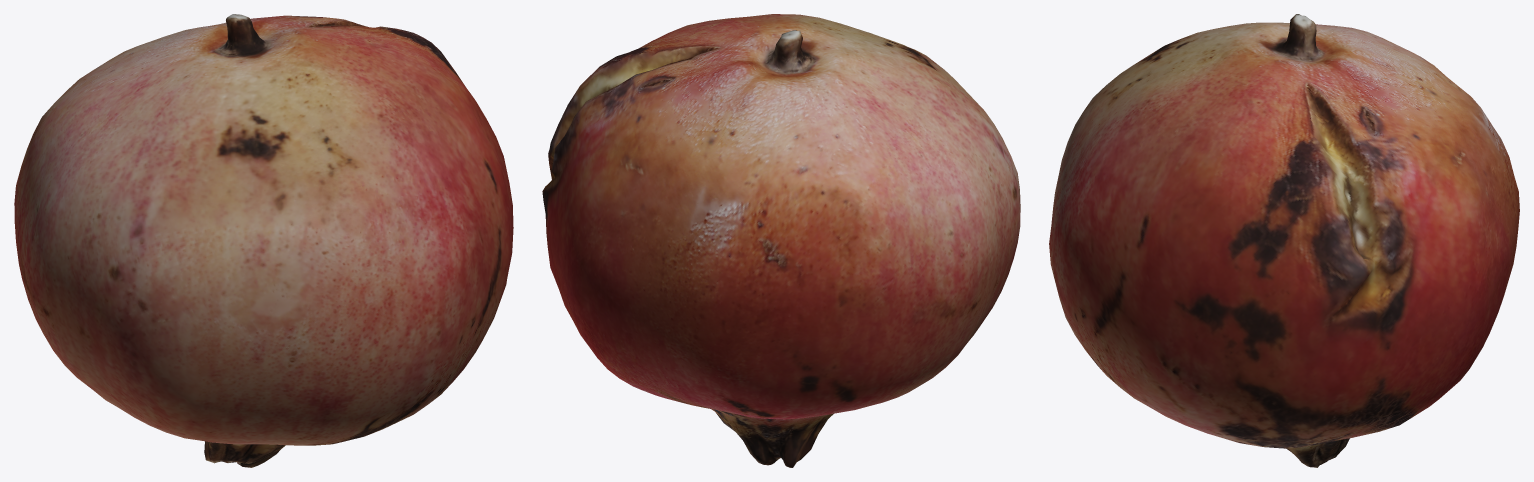
The model's file is pomegranate.obj.
3 renders of one model, left to right at view 1: azimuth 30°, elevation 25°; view 2: azimuth 150°, elevation 25°; view 3: azimuth 270°, elevation 25°, orthographic. The views are drawn at different scales.
Parts seen in each view (by area): view 1: Pomegranate; view 2: Pomegranate; view 3: Pomegranate.
Part boxes in pixels (x1=…): Pomegranate: x1=14, y1=14, x2=513, y2=467; Pomegranate: x1=542, y1=14, x2=1020, y2=467; Pomegranate: x1=1049, y1=14, x2=1519, y2=467.
Size of the model in its own units: 1 by 1 by 0.9681.
